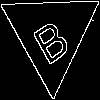B: (26, 10, 73, 66)
